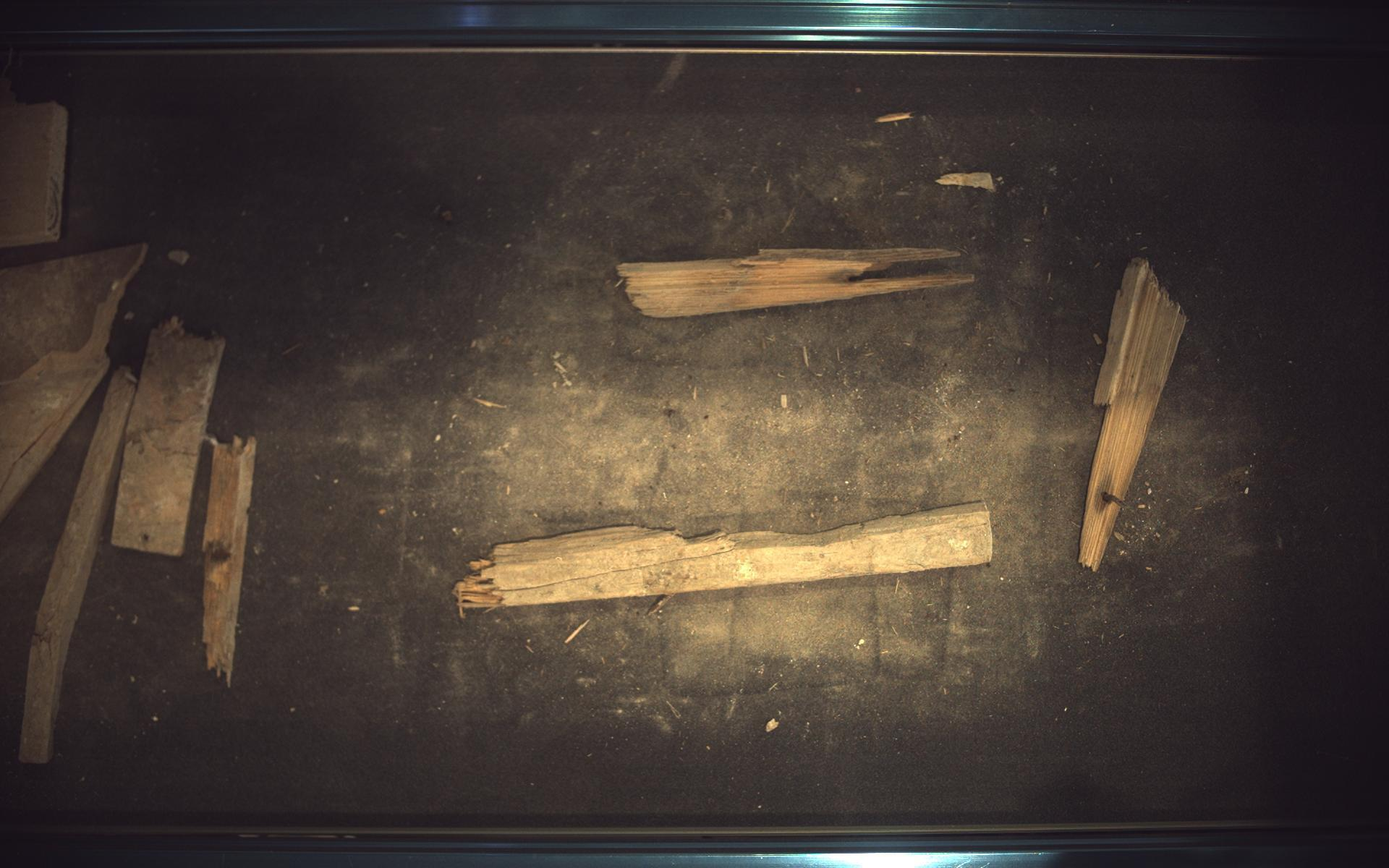wood: (455, 503, 994, 611), (17, 366, 136, 765), (1, 243, 144, 520), (1082, 258, 1189, 571), (110, 317, 224, 556), (619, 247, 977, 317), (202, 436, 255, 687), (1, 101, 67, 247)
